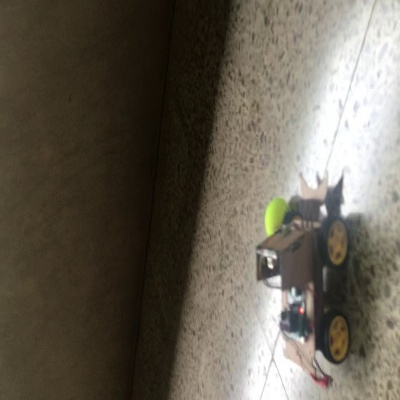Ball: (264, 199, 288, 232)
Robot: (255, 170, 352, 378)
